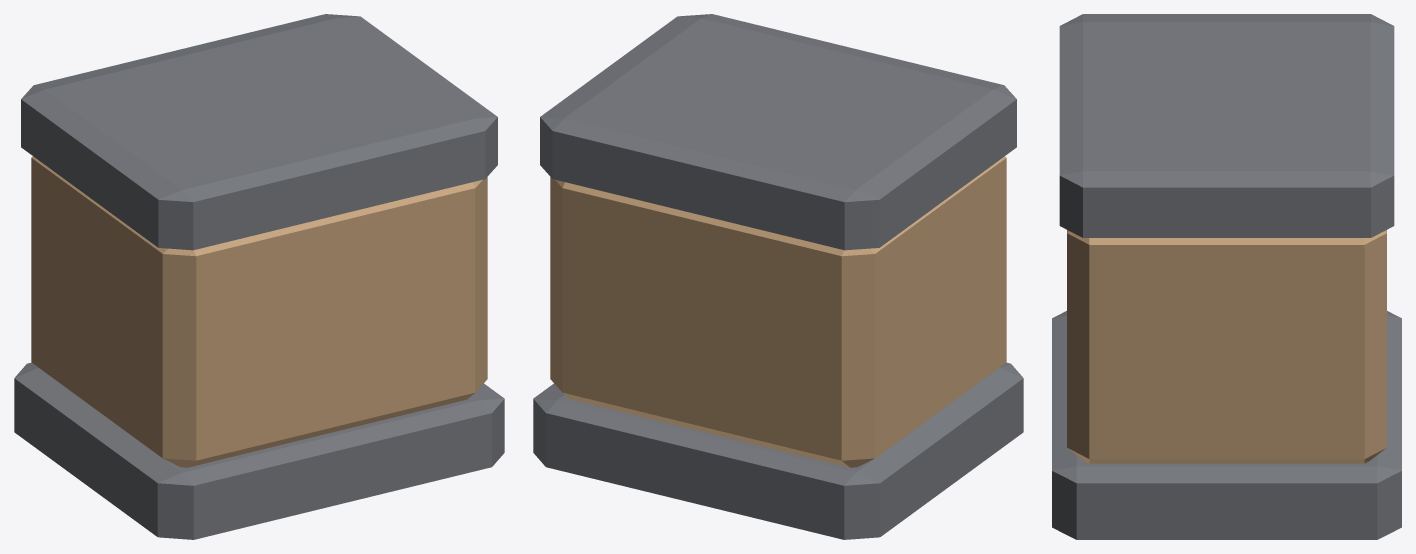
The model's file is b14_pallet_carton_stack.glb.
3 views of the same model, side by side, from view 1: azimuth 30°, elevation 25°; view 2: azimuth 150°, elevation 25°; view 3: azimuth 270°, elevation 25° (orthographic). The views are drawn at different scales.
Parts seen in each view (by area): view 1: b14_pallet_carton_stack; view 2: b14_pallet_carton_stack; view 3: b14_pallet_carton_stack.
Part boxes in pixels (box(x1,y1,x2,y2)): b14_pallet_carton_stack: box(14, 14, 504, 539); b14_pallet_carton_stack: box(533, 14, 1023, 539); b14_pallet_carton_stack: box(1052, 14, 1401, 539).
Bounding box in the file's own units: 1.2 × 1.13 × 1.
